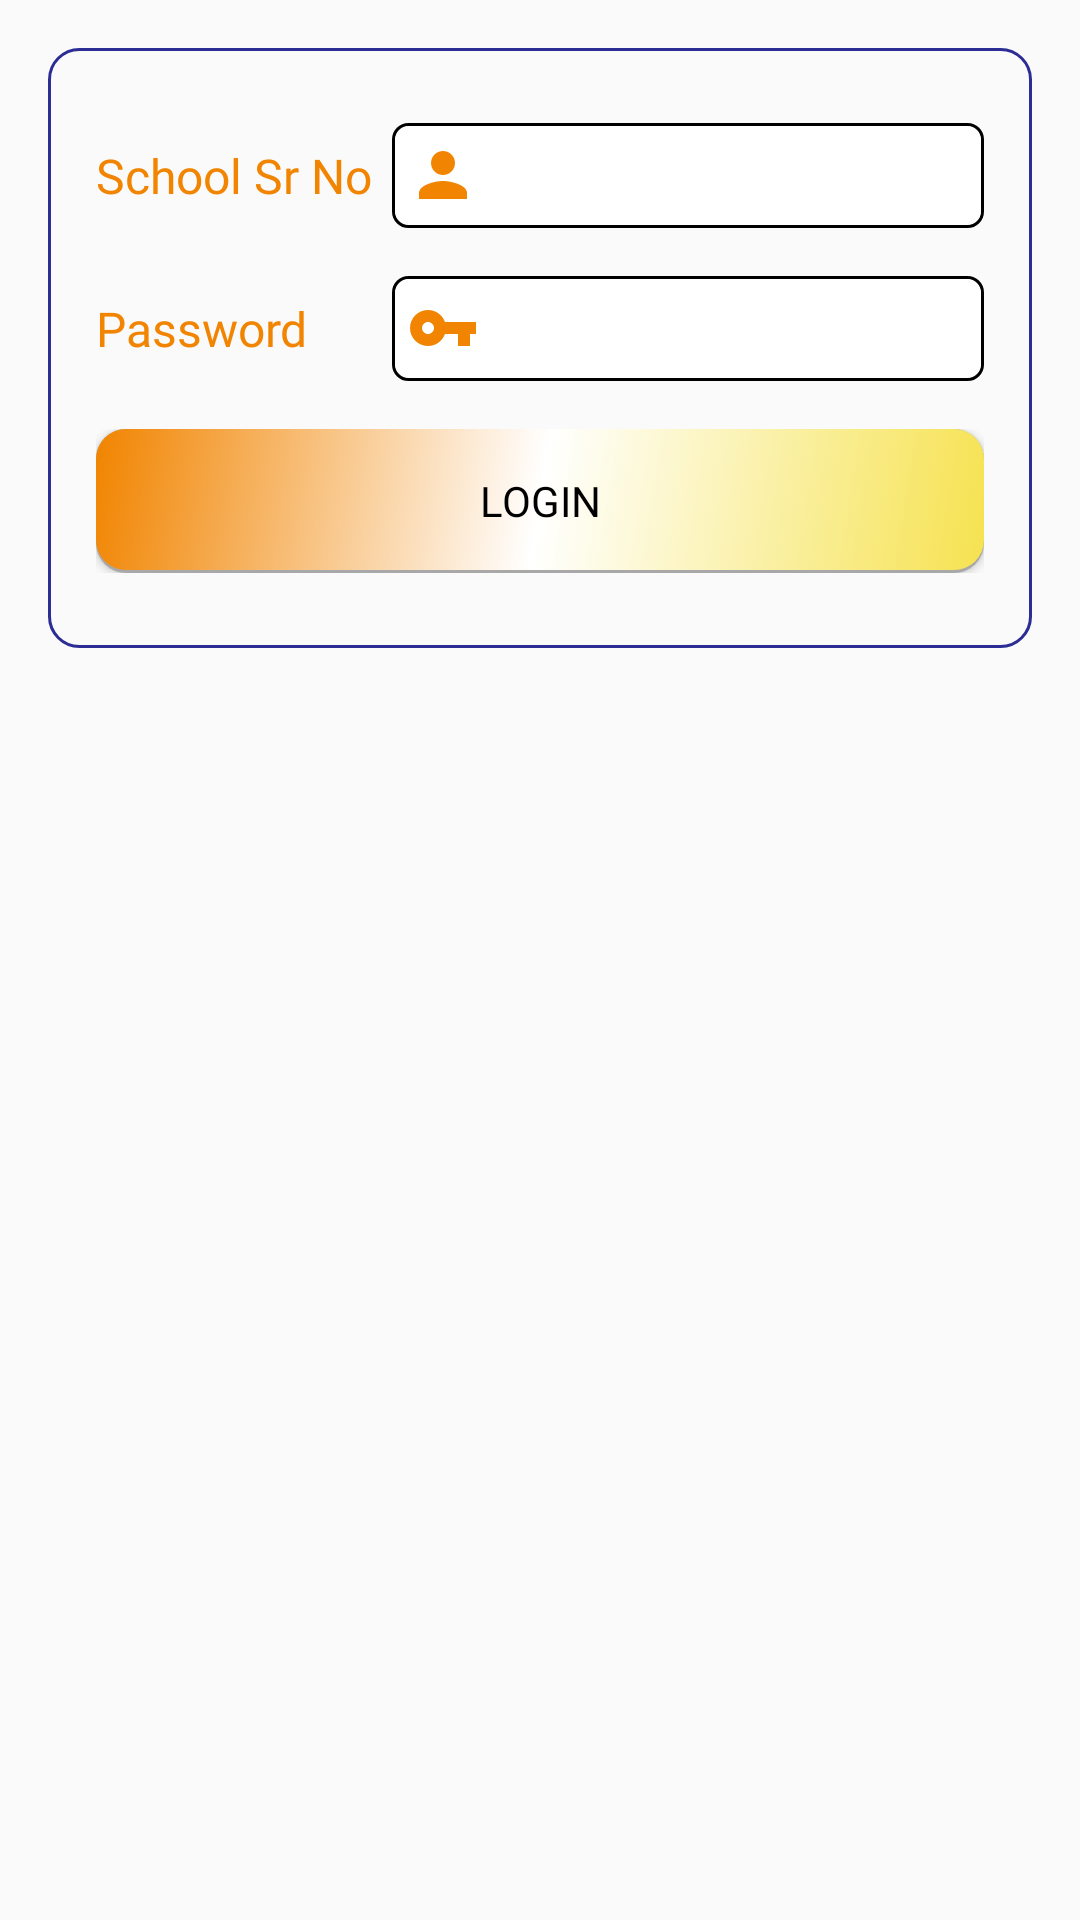

Where icons sit on this 1080 × 1920 app screen, as (x1, y1, x2, y2):
person or: (419, 151, 467, 199)
vpn key or: (410, 310, 476, 346)
